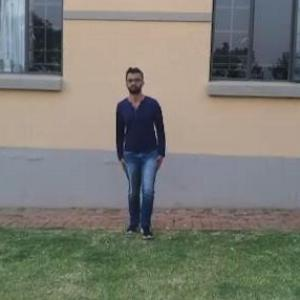follow: (106, 52, 174, 268)
